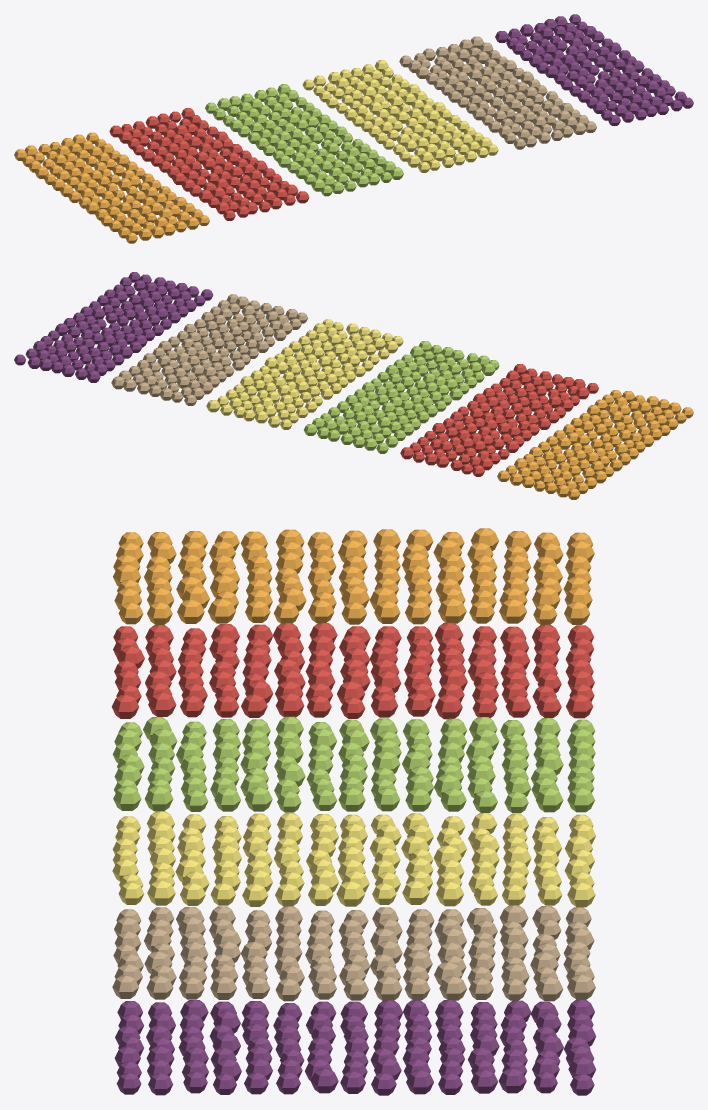
The model's file is dm_producespread.glb.
The picture shows the model from 3 angles, top to bottom: view 1: azimuth 30°, elevation 25°; view 2: azimuth 150°, elevation 25°; view 3: azimuth 270°, elevation 25°; orthographic projection. The views are drawn at different scales.
Parts seen in each view (by area): view 1: dm_producespread; view 2: dm_producespread; view 3: dm_producespread.
Part boxes in pixels (left/top/right/bottom): dm_producespread: left=14, top=14, right=693, bottom=243; dm_producespread: left=14, top=272, right=693, bottom=499; dm_producespread: left=111, top=528, right=596, bottom=1095.
Bounding box in the file's own units: 4.05 × 0.0858 × 1.5.
